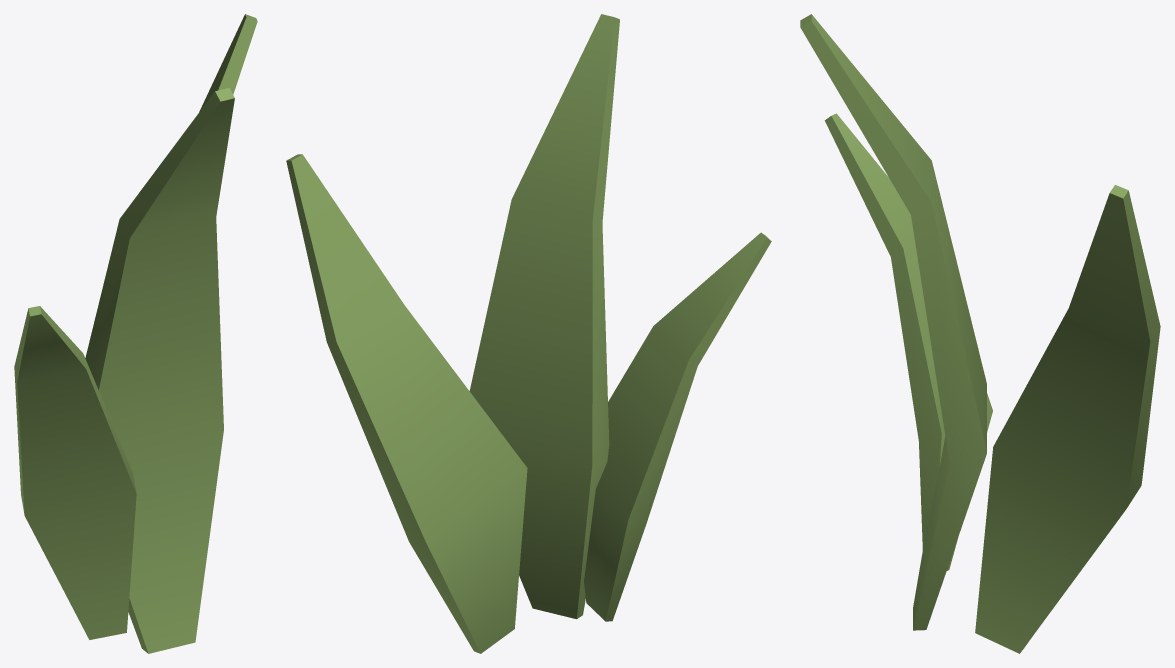
File: A_GrassTuff.fbx
3 views of the same model, side by side, from view 1: azimuth 30°, elevation 25°; view 2: azimuth 150°, elevation 25°; view 3: azimuth 270°, elevation 25° (orthographic). The views are drawn at different scales.
Parts seen in each view (by area): view 1: pCube4; view 2: pCube4; view 3: pCube4.
Part boxes in pixels (x1,y1,x2,y2): pCube4: (14,14,257,653); pCube4: (286,14,771,653); pCube4: (800,14,1160,653).
Size of the model in its own units: 14.44 by 22.68 by 12.01.
